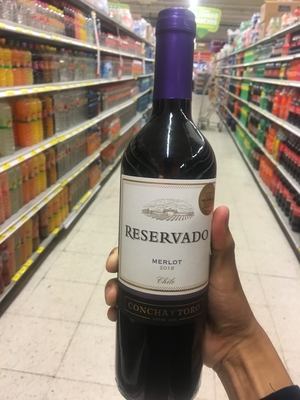reservado merlot: (118, 16, 221, 400)
